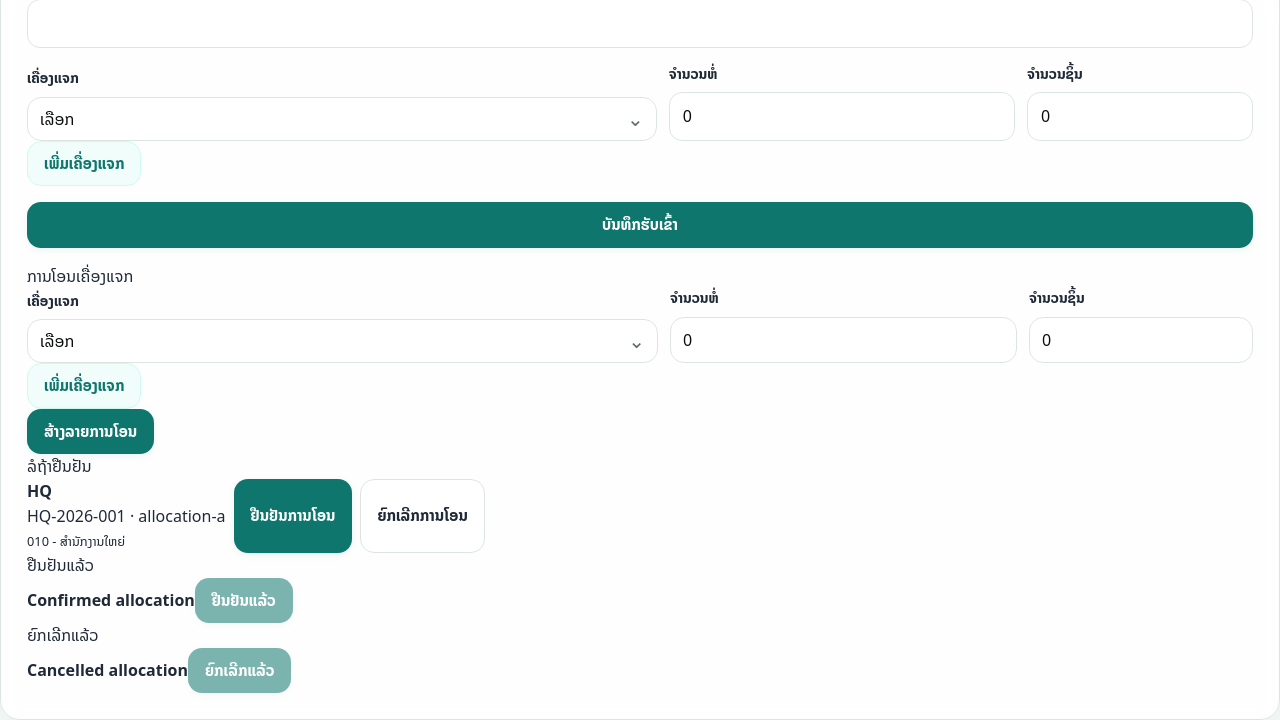
Test: GiftInboundPanel › renders confirmed and cancelled history as disabled actions and gives cancellation its own dialog
(page scrolled)
Expected: the heading "ຢືນຢັນແລ້ວ" is shown, [27,552,94,578]
Expected: the heading "ຍົກເລີກແລ້ວ" is shown, [27,622,99,648]
What coordinates should you click on to do the following:
click the button "ຍົກເລີກການໂອນ"
I would click on:
 (423, 516)
Its box is [360,479,485,553].
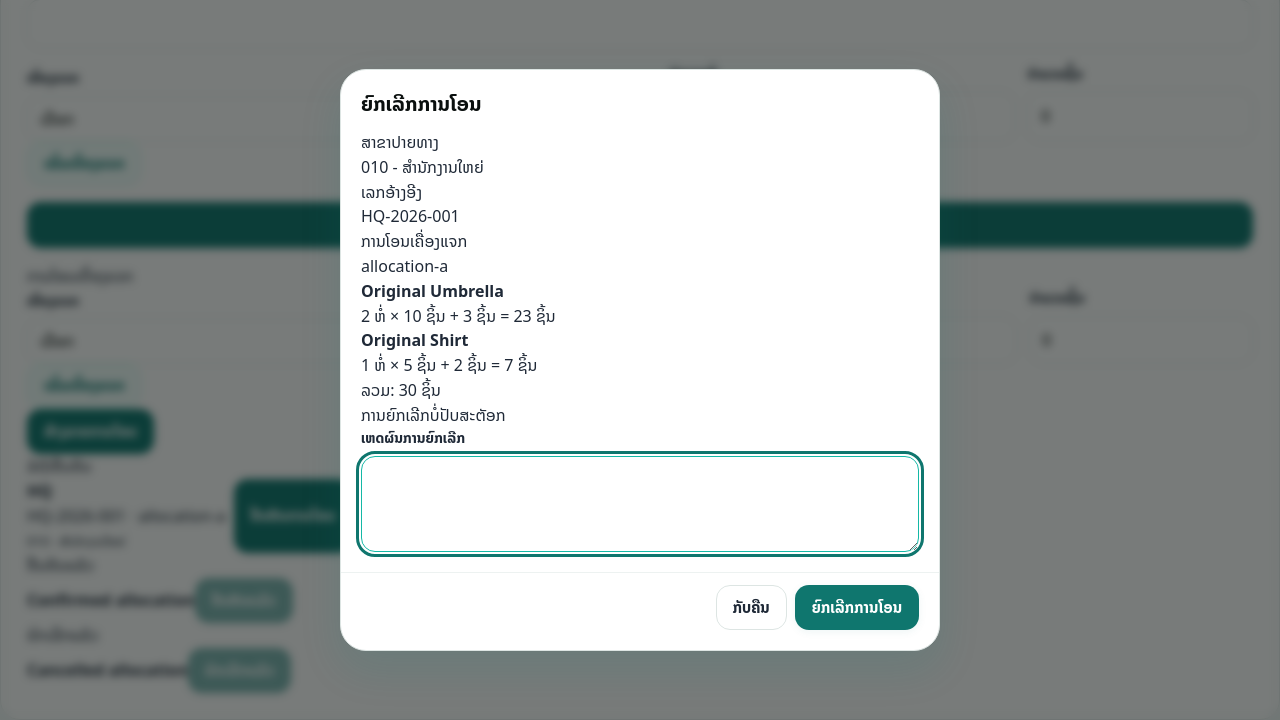
Expected: the heading "ຍົກເລີກການໂອນ" is shown, [361,87,482,120]
Expected: the text "ການຍົກເລີກບໍ່ປັບສະຕັອກ" is shown, [361,402,506,428]
Expected: the button "ຍົກເລີກການໂອນ" is shown, [795,585,919,630]
